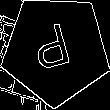P_S: (31, 20, 80, 79)
